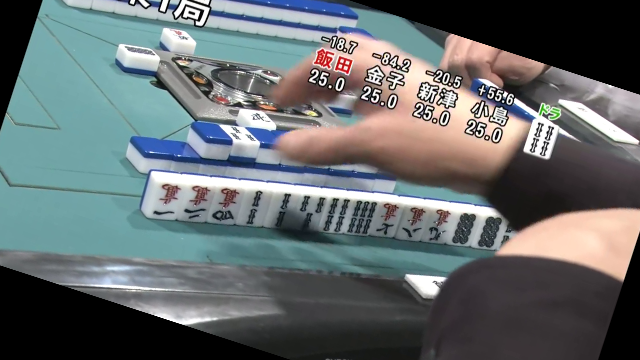Tehai: (135, 156, 506, 254)
